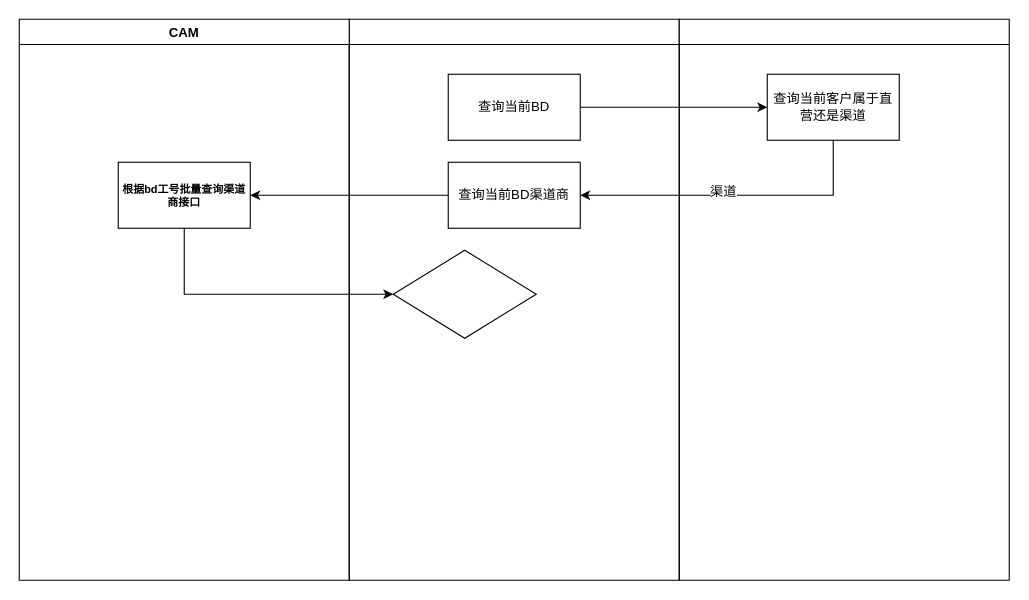
Some shapes in this 1029 by 600 pixel diagram are drawn without their labels. Each missing label, with the box of its shape:
BMS: (348, 18, 679, 580)
MBS: (678, 18, 1009, 580)
该渠道商是否有效: (392, 249, 536, 338)
